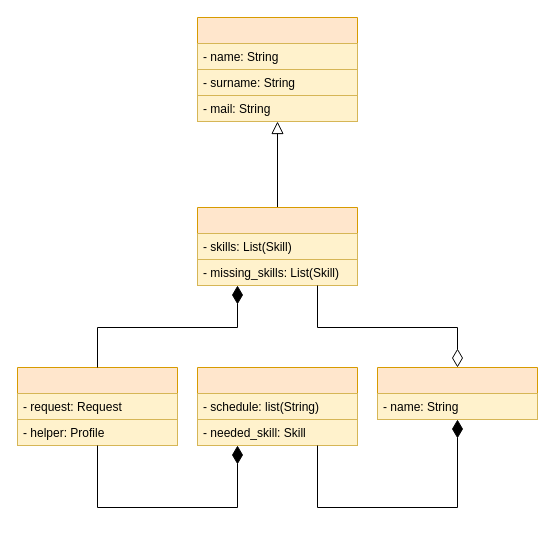
Some shapes in this 555 by 543 pixel diagram are drawn without their labels. Each missing label, with the box of its shape:
Activity: (16, 366, 178, 446)
Profile: (196, 206, 358, 286)
Request: (196, 366, 358, 446)
Skill: (376, 366, 538, 420)
User: (196, 16, 358, 122)
